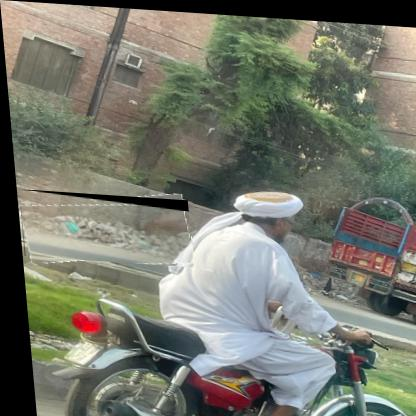Garbage: (16, 190, 191, 267)
